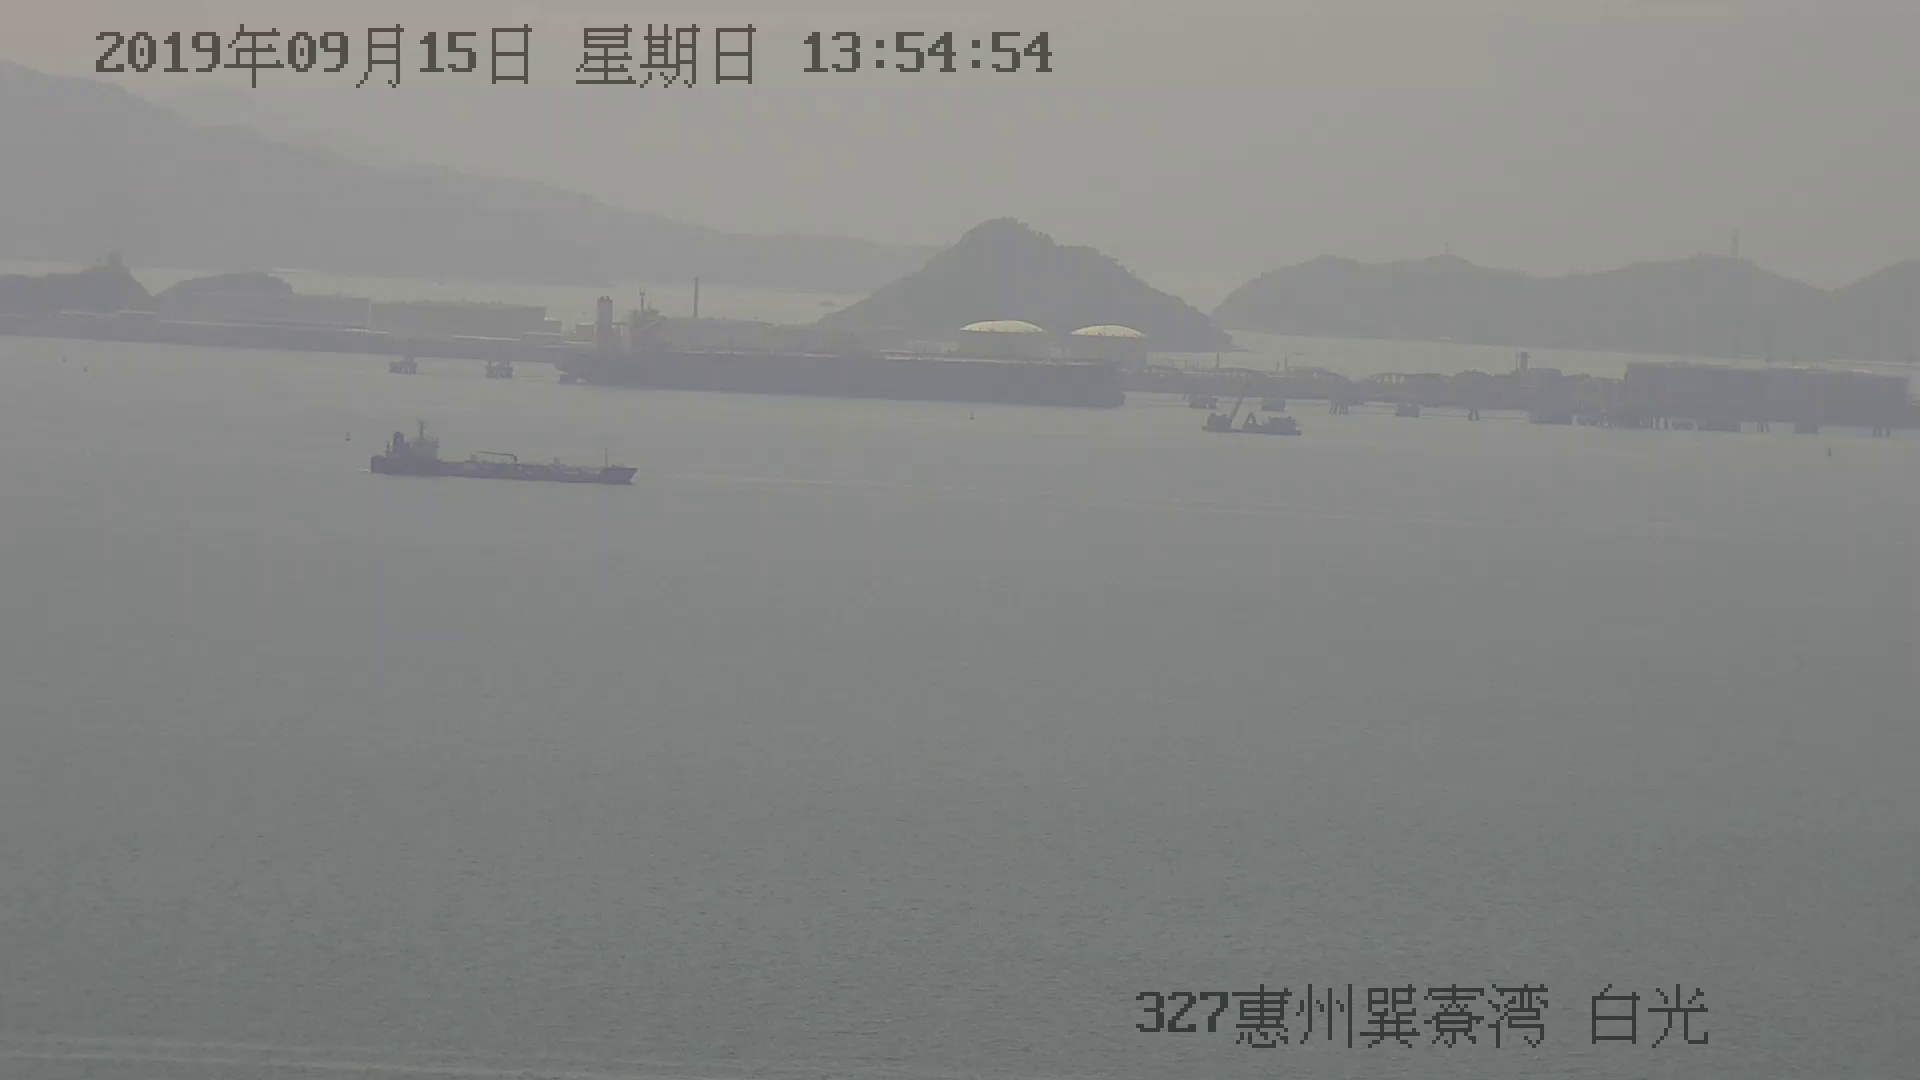ship: (364, 421, 636, 485)
